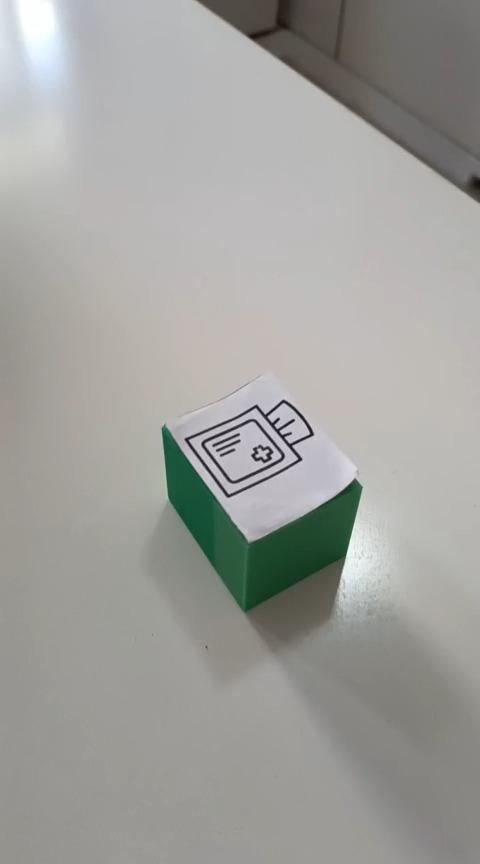Gauze: (160, 371, 363, 613)
